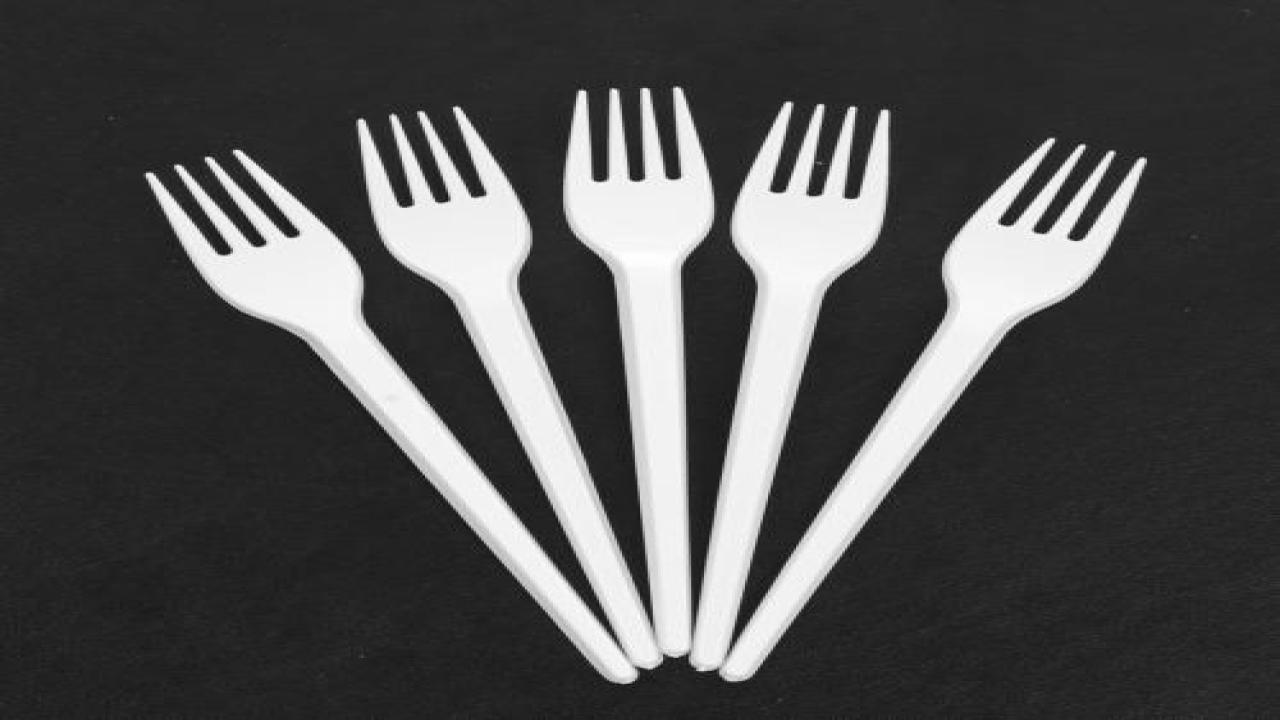fork: (143, 147, 640, 684), (714, 136, 1147, 681), (349, 105, 671, 670), (686, 99, 891, 674), (558, 85, 714, 660)
